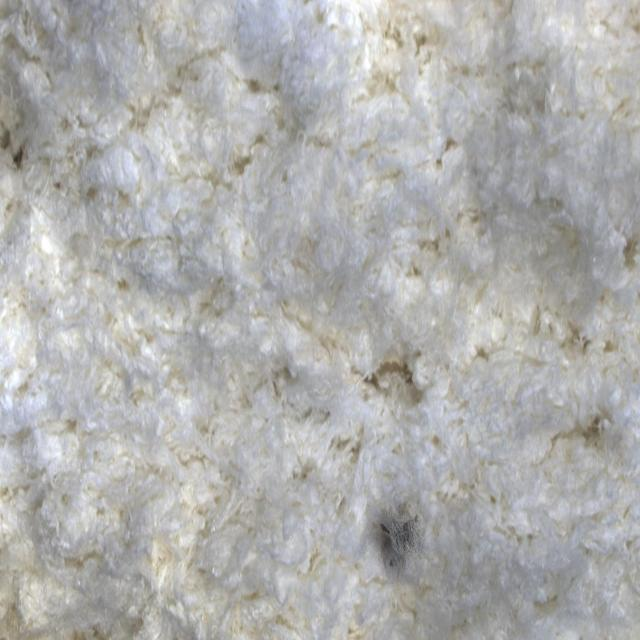dust: (324, 468, 448, 594)
